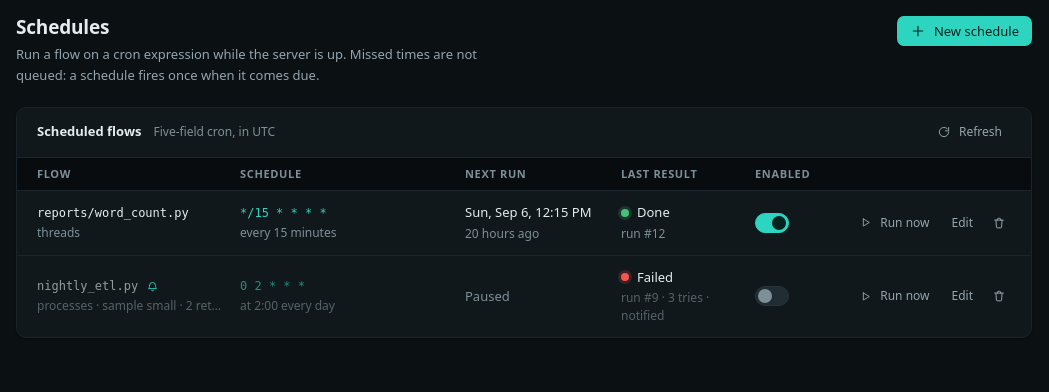
Scenario: the schedules page › runs a schedule now and says which run started
Click the button with aria-label "Run reports/word_count.py now" at (894, 223), box [850,210,938,235]
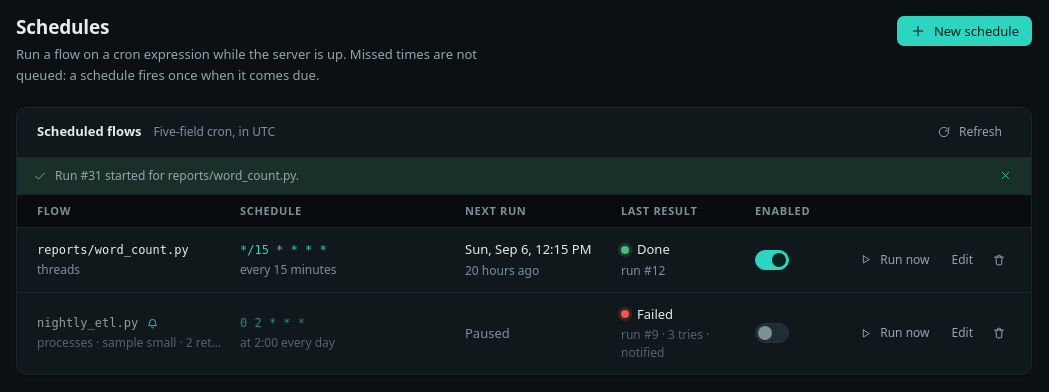
Check: the text "Run #31 started for reports/word_count.py." is shown, box [55,167,299,184]
